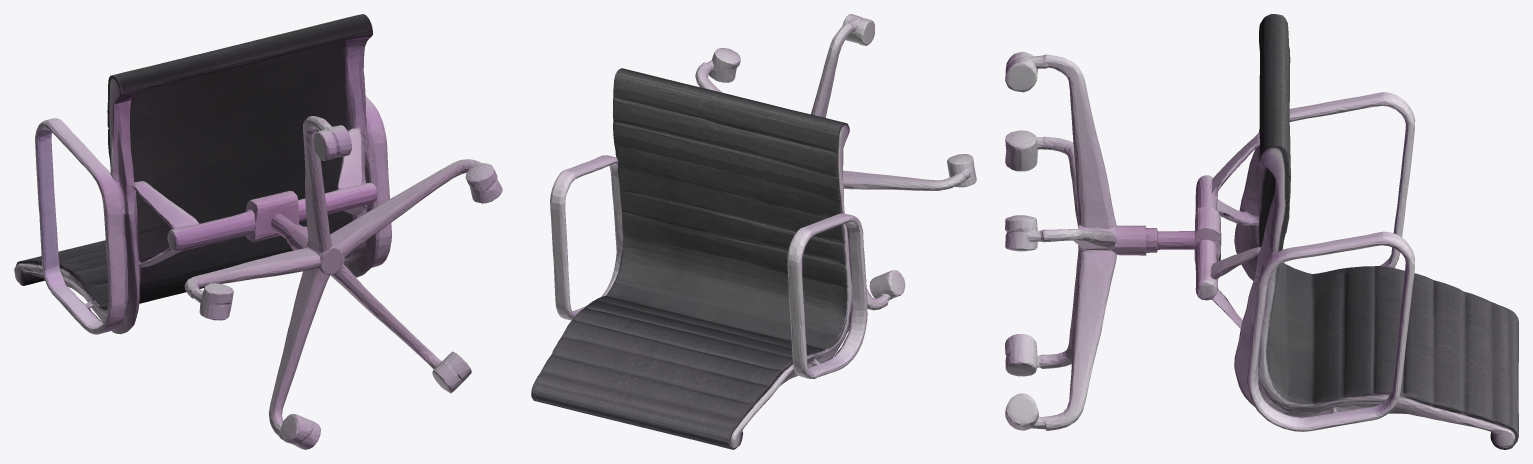
File: original_slat_orient_05_swap_y_z.glb
3 renders of one model, left to right at view 1: azimuth 30°, elevation 25°; view 2: azimuth 150°, elevation 25°; view 3: azimuth 270°, elevation 25°, orthographic. The views are drawn at different scales.
Parts seen in each view (by area): view 1: world; view 2: world; view 3: world.
Boxes of the visible parts, x1,y1,x2,y2 form: world: (14,14,502,449); world: (531,14,976,449); world: (1005,14,1518,449).
Bounding box in the file's own units: 0.505 × 0.5071 × 0.7001.
Materials: 1 (1 with a texture image).
